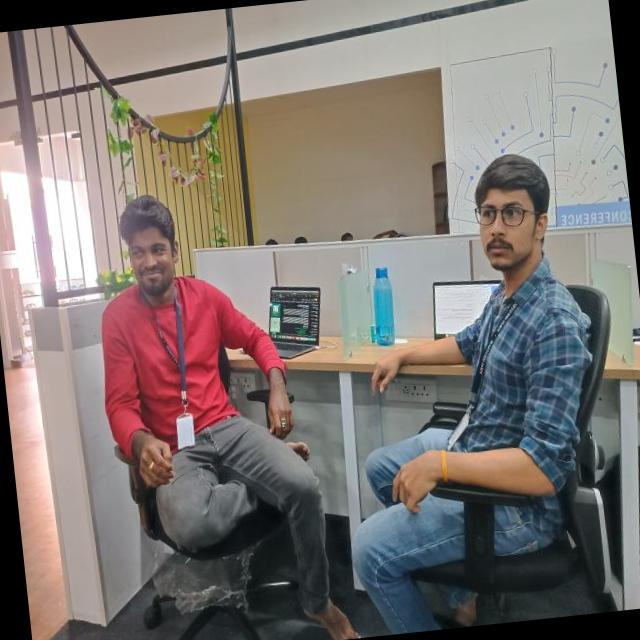id_card: (428, 298, 528, 460), (144, 274, 198, 458)
